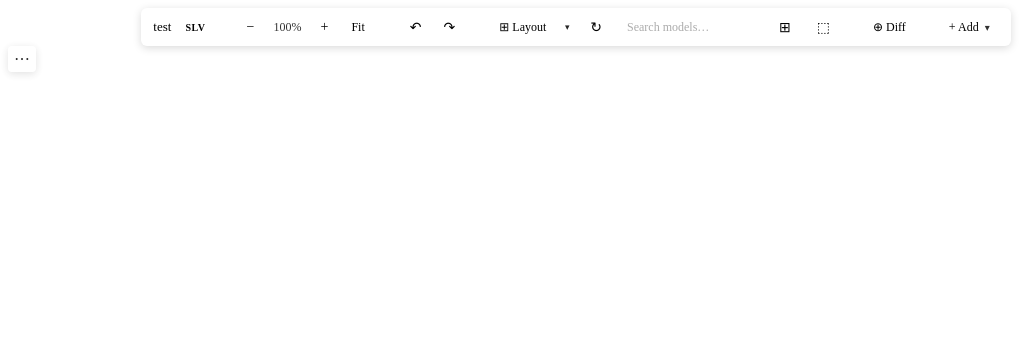
Toolbar layout-dirty button › becomes dirty when cluster-by option changes
Click the button named "layout settings": click(567, 27) [557, 14, 577, 40]
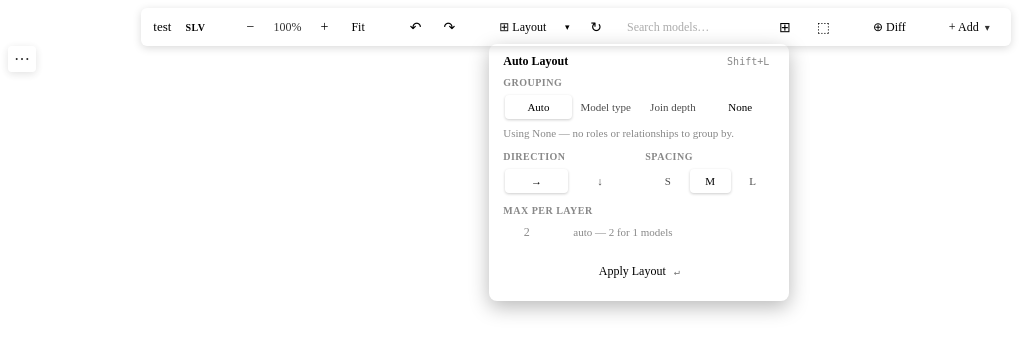
Click the button "Join depth": click(673, 107) [640, 95, 706, 119]
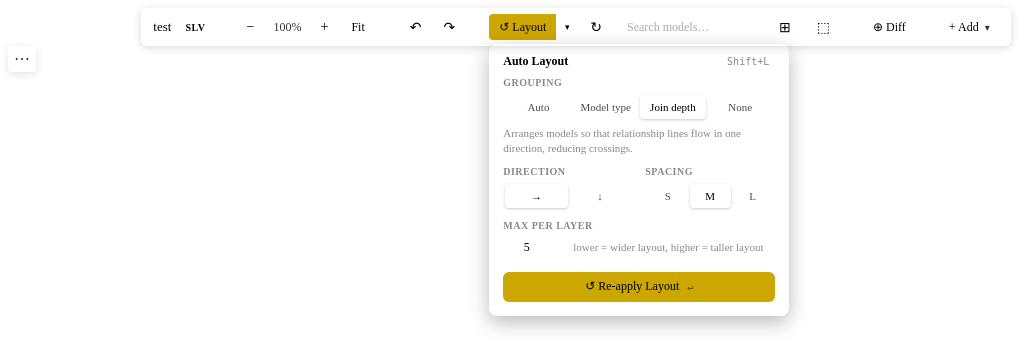
Expected: the button with aria-label "auto-layout nodes" shows "↺", [489, 14, 556, 40]
